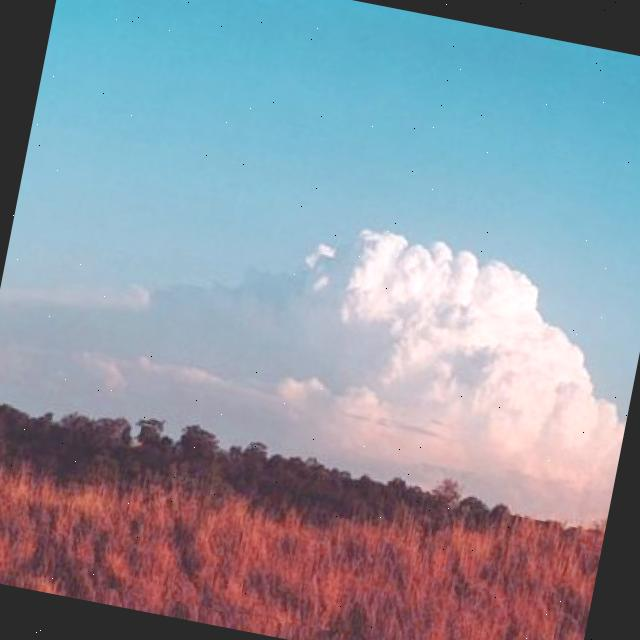Cb: (115, 174, 640, 507)
